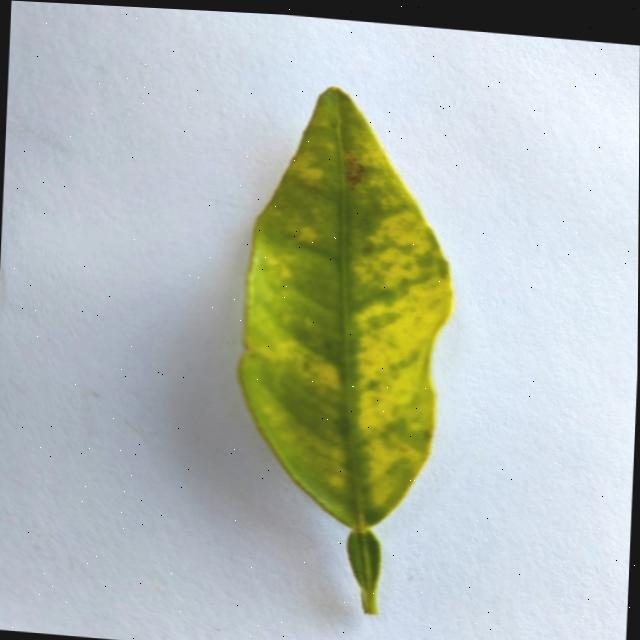greening: (240, 86, 452, 613)
